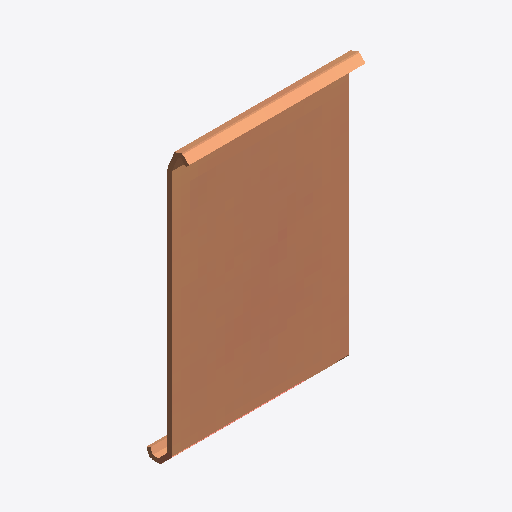
Isometric view (azimuth 45°, elevation 35.3°) of a Minecraft model made of 7 cuboids, textured from the same repository.
Visible parts, largest first — base, element 7, element 5.
Boxes of the visible parts, <box> form: base: <box>167,73,348,455</box>; element 7: <box>180,53,364,166</box>; element 5: <box>174,50,358,157</box>.
Bounding box in the file's own units: 10 × 15.9 × 2.42.